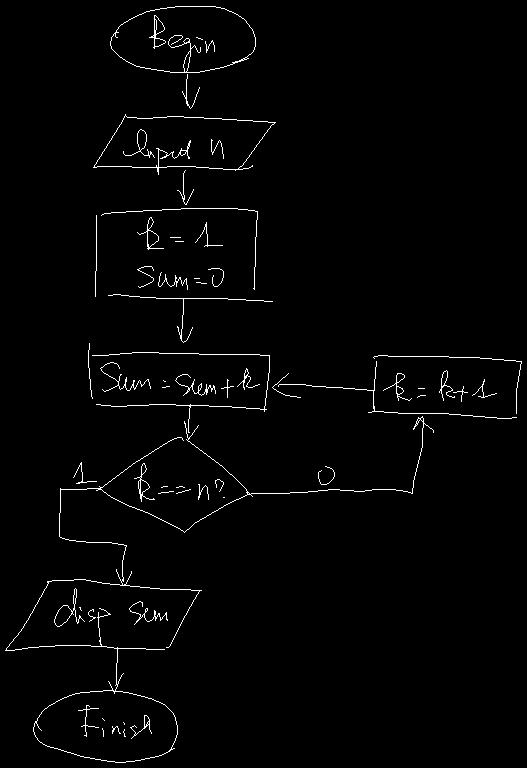arrow: (246, 416, 433, 494), (59, 488, 131, 585), (272, 373, 373, 397), (108, 647, 123, 693), (177, 298, 192, 342), (182, 74, 199, 108), (177, 170, 193, 204), (184, 404, 198, 439)
data: (5, 579, 201, 650), (93, 114, 275, 170)
decision: (96, 437, 254, 532)
process: (95, 208, 272, 301), (88, 343, 269, 411), (368, 355, 521, 418)
terminator: (33, 690, 177, 762), (110, 6, 255, 72)
text: (54, 588, 167, 646), (137, 217, 223, 289), (100, 362, 259, 397), (123, 129, 223, 174), (149, 15, 214, 72), (383, 370, 496, 401), (134, 463, 224, 501), (78, 705, 151, 738), (73, 462, 96, 483), (318, 466, 334, 484)
